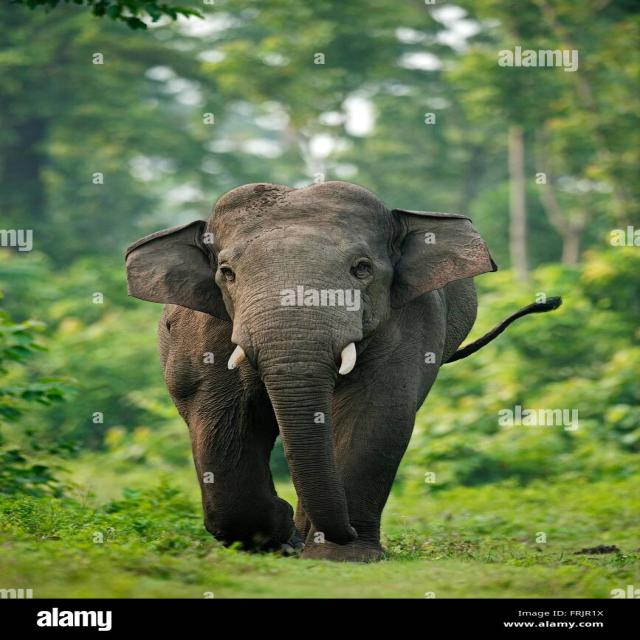Elephant: (109, 177, 486, 556)
